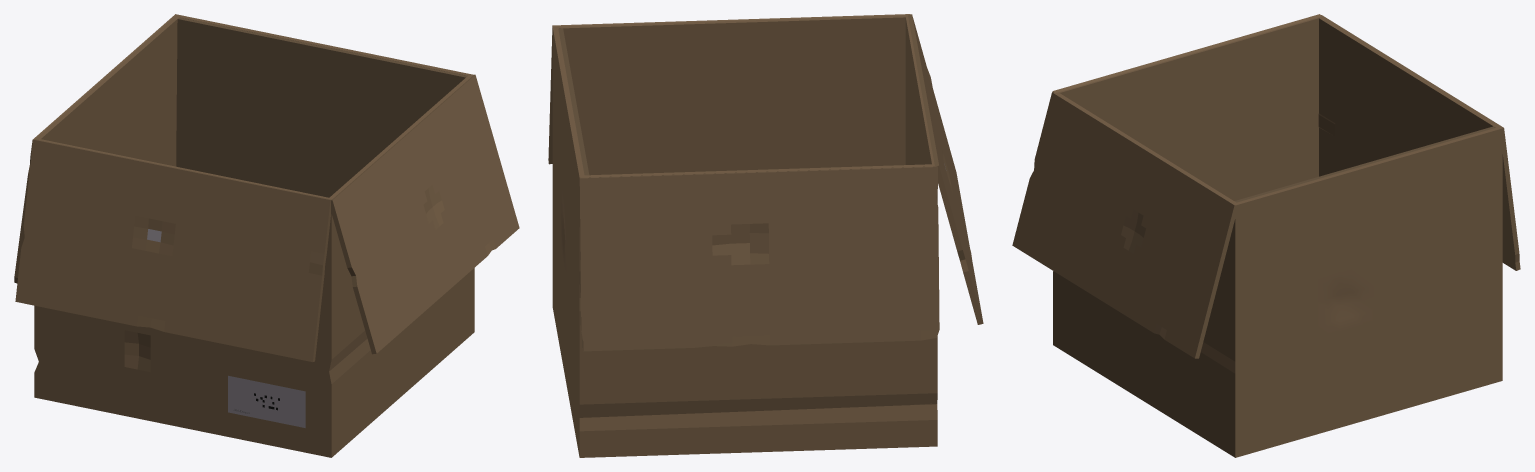
Rendered from fjsw_box.gltf.
3 renders of one model, left to right at view 1: azimuth 30°, elevation 25°; view 2: azimuth 150°, elevation 25°; view 3: azimuth 270°, elevation 25°, orthographic. The views are drawn at different scales.
Visible parts, largest first — view 1: Cube.016; view 2: Cube.016; view 3: Cube.016.
Boxes of the visible parts, <box> form: Cube.016: <box>14,14,519,457</box>; Cube.016: <box>548,14,983,457</box>; Cube.016: <box>1012,14,1520,457</box>.
Bounding box in the file's own units: 0.9247 × 0.505 × 0.9181.
